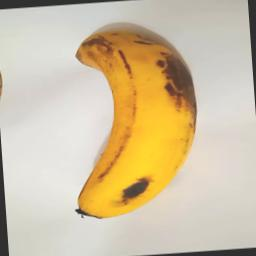Banana Unripe: (67, 22, 204, 216)
